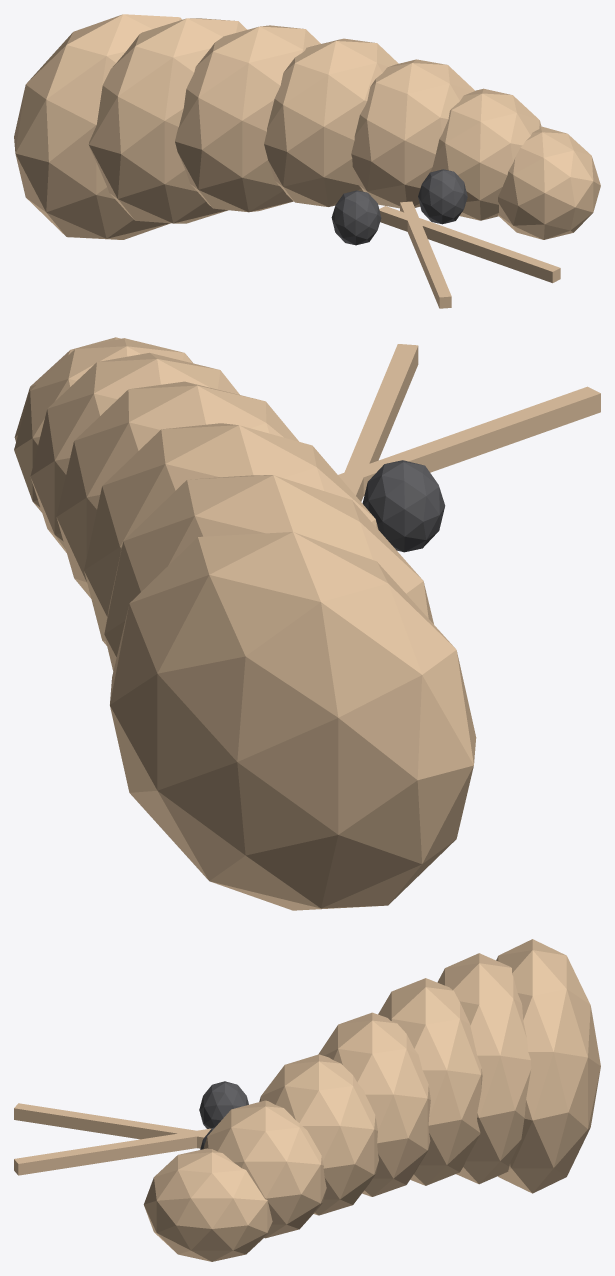
The model's file is Shrimp.glb.
The picture shows the model from 3 angles, top to bottom: view 1: azimuth 30°, elevation 25°; view 2: azimuth 150°, elevation 25°; view 3: azimuth 270°, elevation 25°; orthographic projection. The views are drawn at different scales.
Visible parts, largest first — view 1: Shrimp_0, Shrimp_1; view 2: Shrimp_0, Shrimp_1; view 3: Shrimp_0, Shrimp_1.
Part boxes in pixels (box(x1,y1,x2,y2)): Shrimp_0: box(14, 14, 600, 308); Shrimp_1: box(331, 169, 467, 245); Shrimp_0: box(14, 337, 600, 910); Shrimp_1: box(362, 460, 445, 552); Shrimp_0: box(14, 939, 600, 1261); Shrimp_1: box(199, 1081, 248, 1149).
Size of the model in its own units: 0.1166 by 0.0615 by 0.1373.
